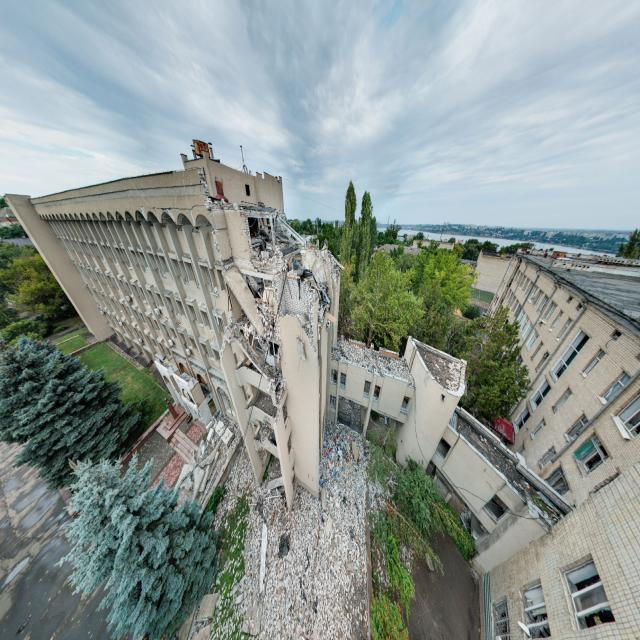damaged_roof: (3, 154, 343, 512)
